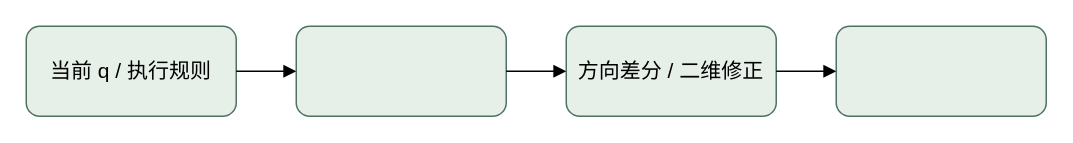
The diagram is 1073 pixels wide and 143 high, and some of its shapes have lost their labels. The shapes that lost their labels are listed below. From the top down, each one's centre as x and y in pixels, then its label:
point (400, 70): 归一化 J / 最小奇异值
point (940, 70): Servo / 实际反馈
